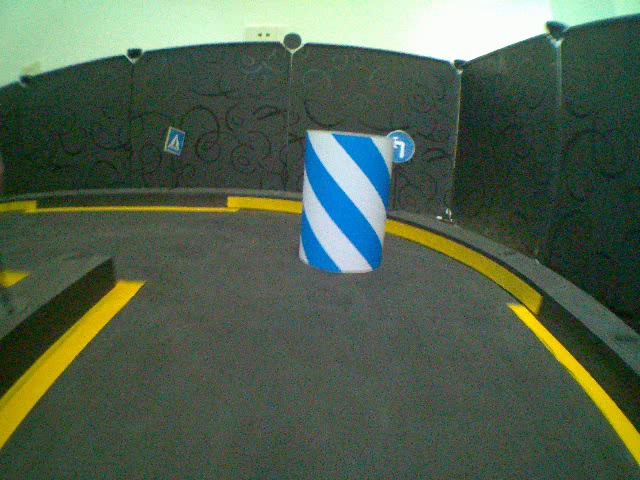unicorn: (295, 128, 393, 276)
